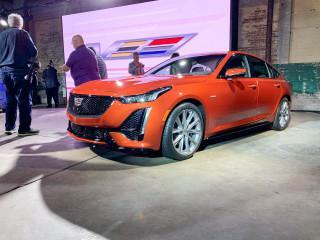cadillac: (72, 95, 86, 108)
